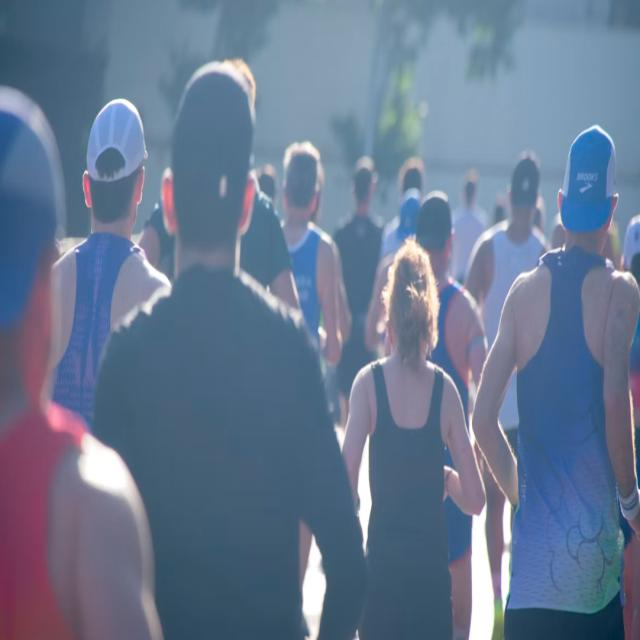Gorra: (555, 123, 621, 244), (72, 94, 153, 184)
